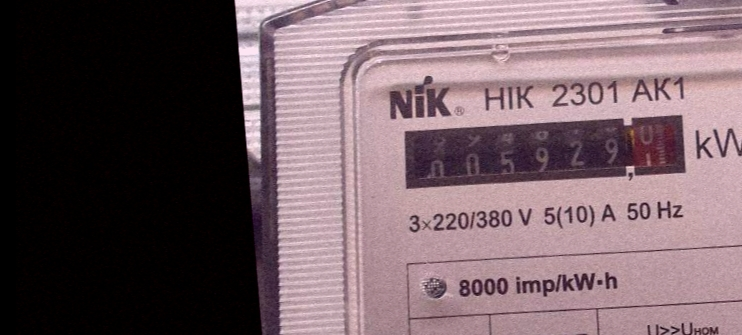0: (462, 148, 483, 177), (425, 153, 448, 177), (636, 120, 657, 145)
2: (565, 134, 587, 169)
5: (497, 145, 517, 174)
9: (601, 132, 623, 166), (530, 141, 553, 173), (429, 133, 448, 152)
screen: (395, 101, 695, 203)
